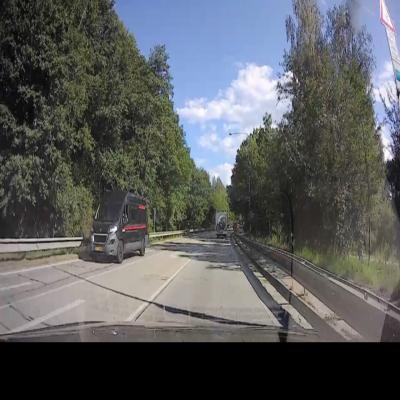clear-road: (0, 236, 262, 333)
